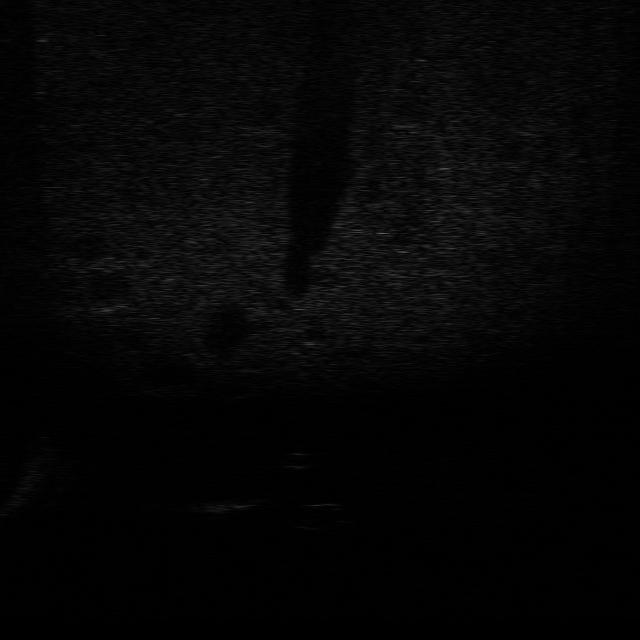ball: (272, 446, 322, 477)
square cage: (183, 488, 265, 522)
tyre: (286, 499, 360, 534)
